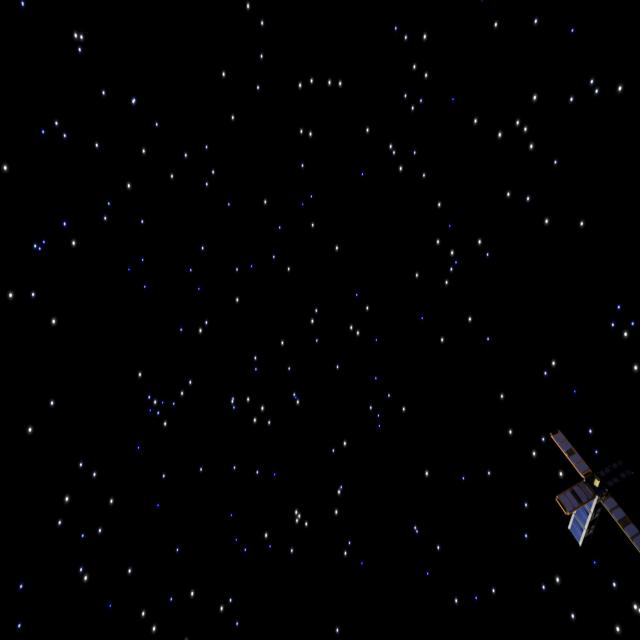medium_debris: (549, 425, 640, 561)
